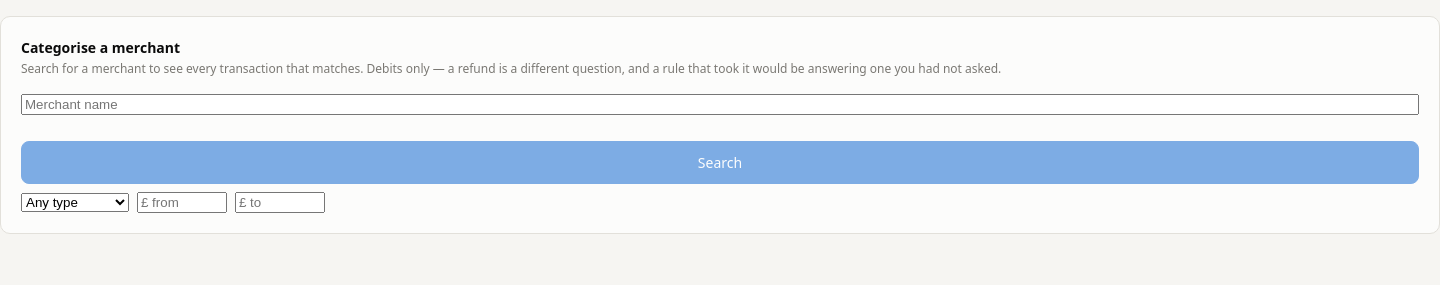
Test: narrowing by type and amount › says what it searched for when nothing matches: {"min":"90","max":"100"}
Type "90" into the field named "Smallest amount" at (182, 202), box [137,192,227,213]
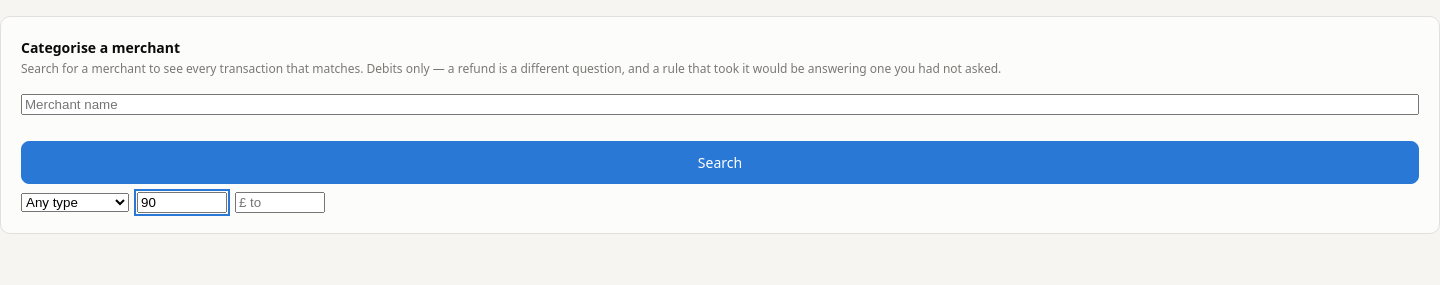
Type "100" into the field named "Largest amount" at (280, 202), box [235,192,325,213]
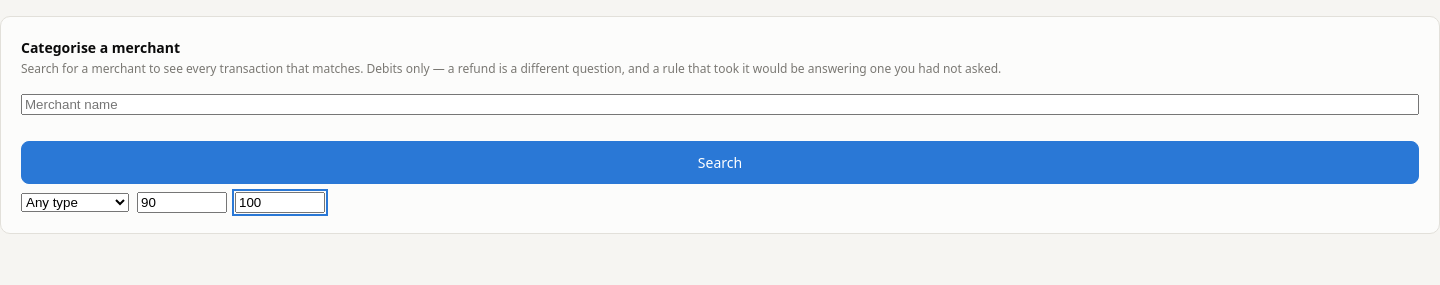
Click the button "Search" at (720, 162), box [21,141,1419,184]
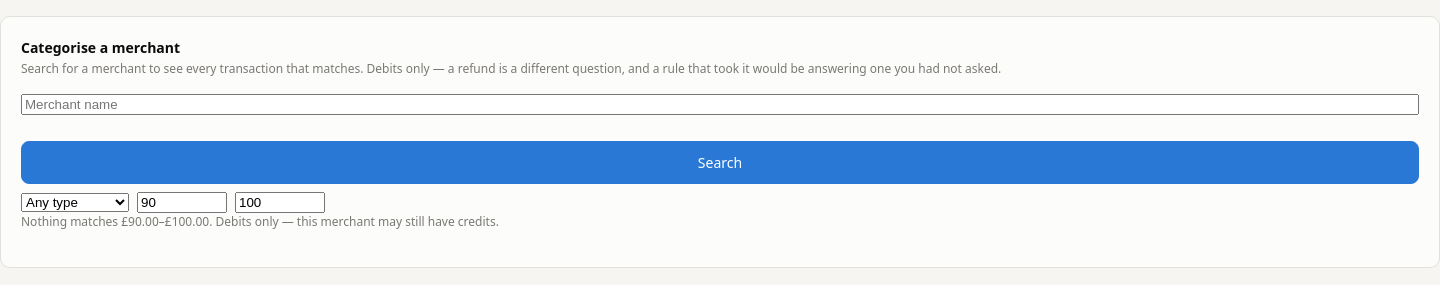
Expected: the text "£90.00–£100.00" is shown, [21,213,212,230]
